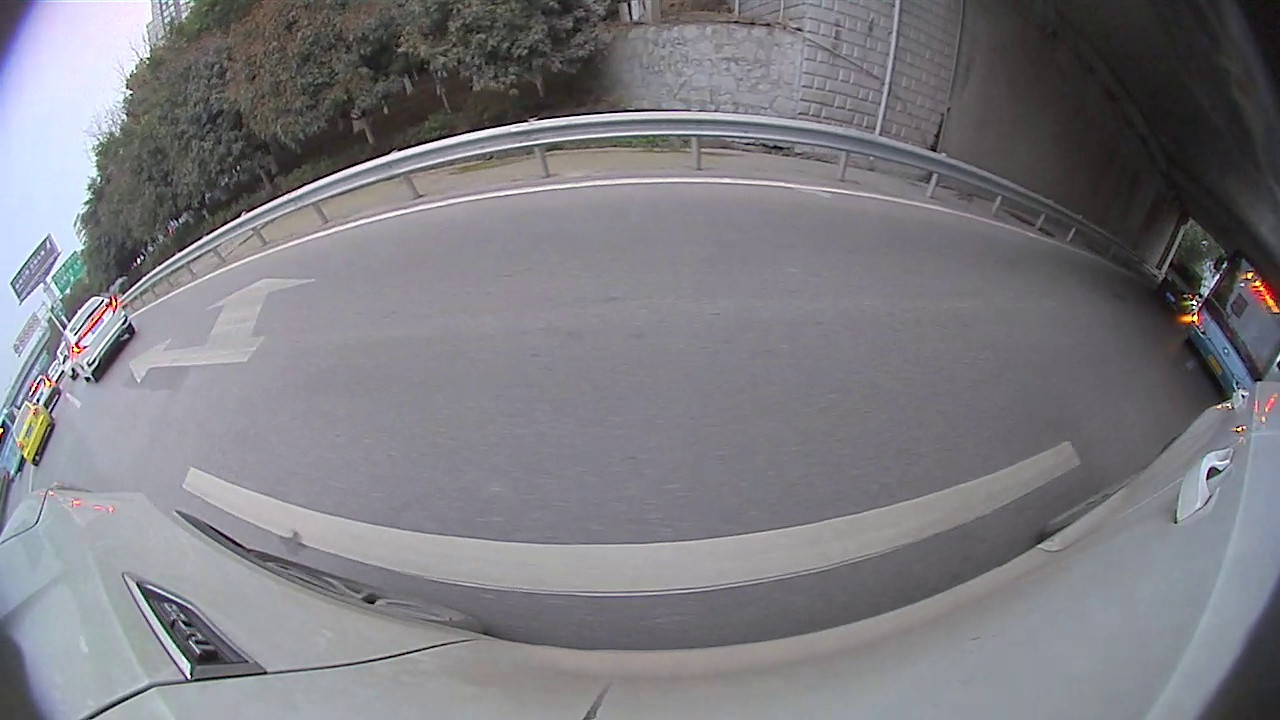bus: (1186, 243, 1279, 399)
car: (58, 292, 138, 386), (4, 400, 58, 466), (1152, 256, 1205, 313)
